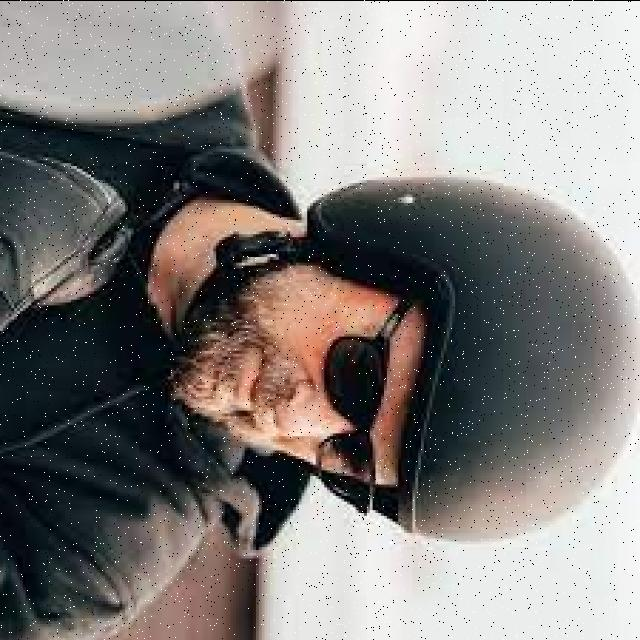Helmet: (161, 134, 640, 569)
